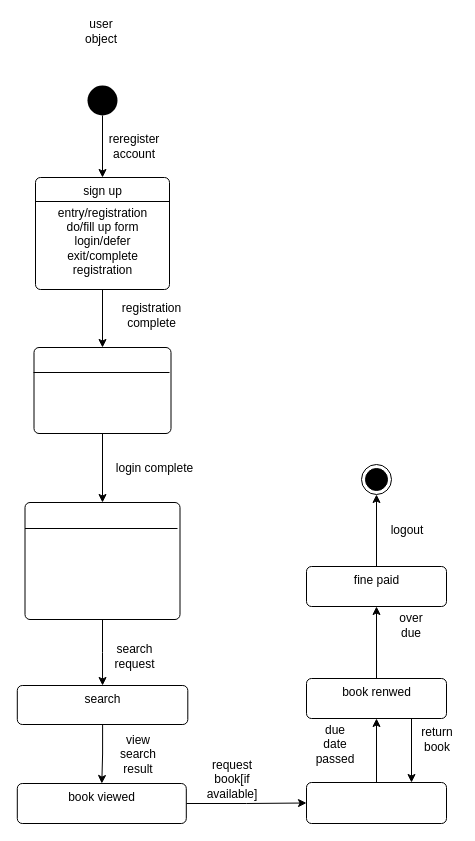
Image size: 475x841. Some labels were removed from this diagram. Here are the shapes that lost their labels. From the top down, the box of each, then its label:
(33, 346, 171, 434): login entry/insert password exit/login successful
(24, 502, 180, 620): home entry/login do/view books, search, watch review exit/log out
(306, 782, 446, 824): book rented
